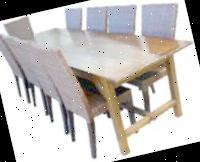Mesa: (3, 0, 199, 161)
Silla: (35, 25, 144, 161), (9, 17, 118, 144), (99, 0, 199, 118), (82, 0, 157, 102), (0, 18, 72, 109), (68, 1, 122, 81), (47, 3, 96, 67), (2, 13, 47, 70)
